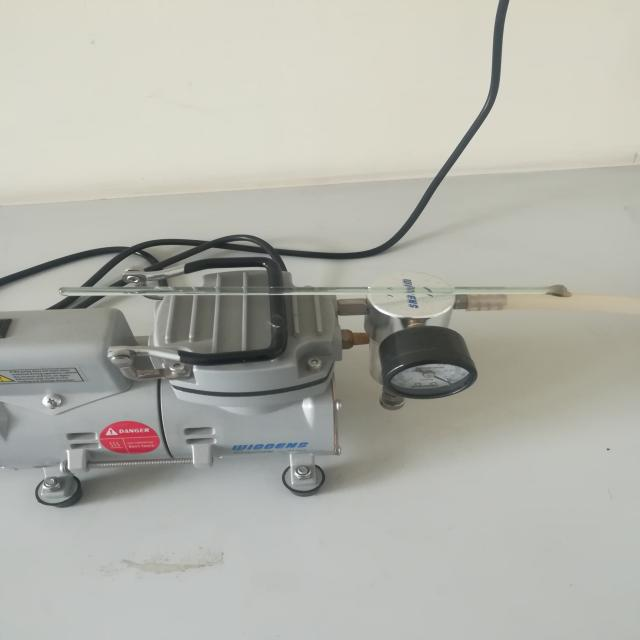Glass_Rod: (41, 263, 582, 340)
